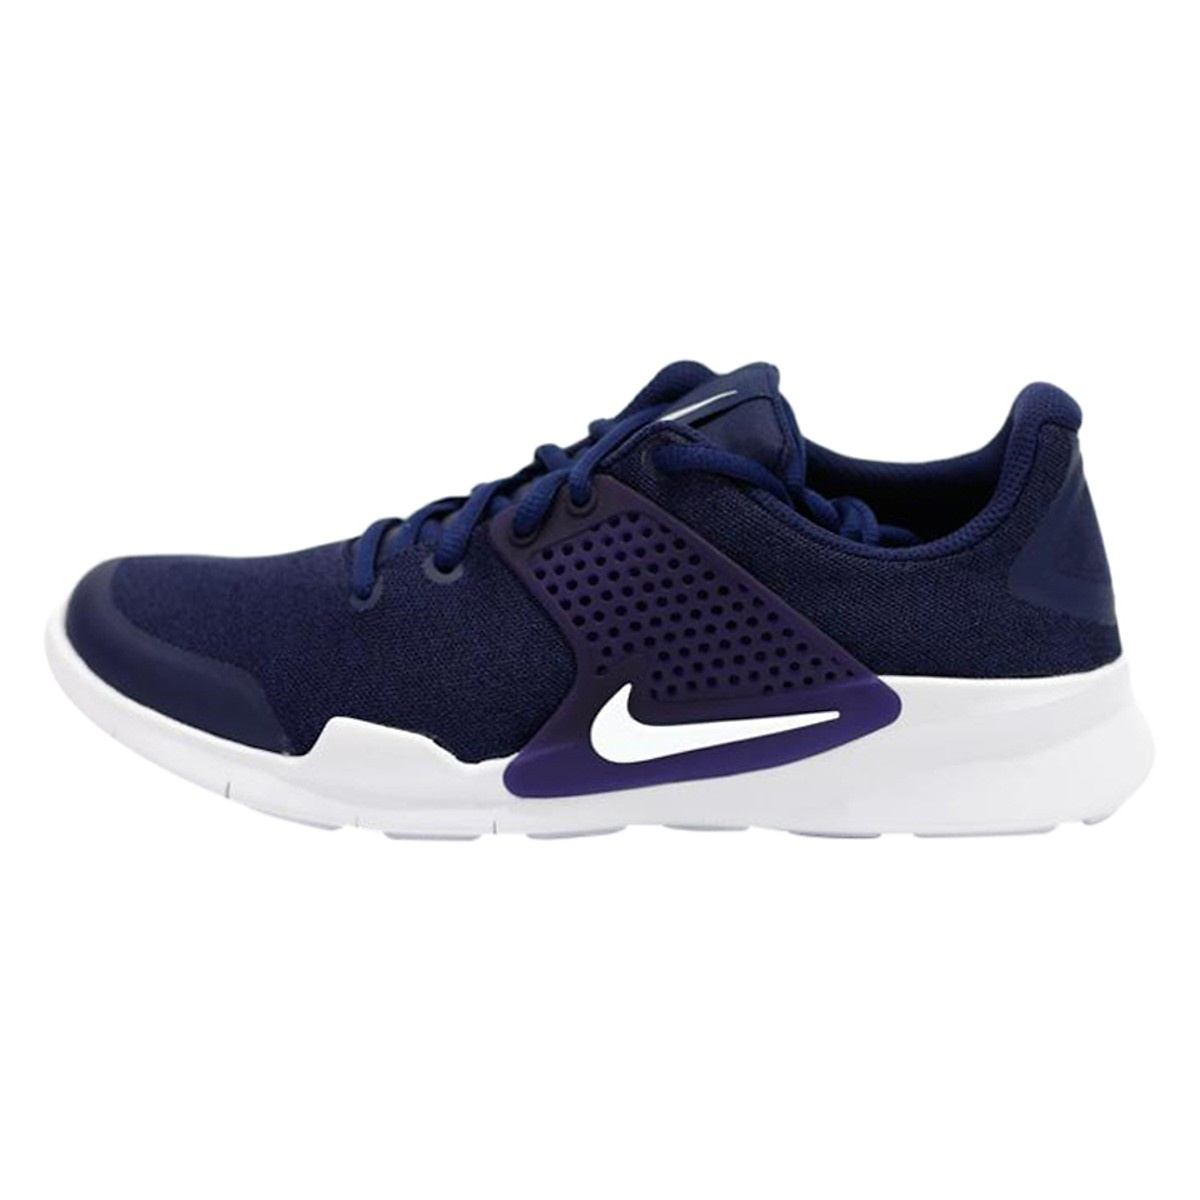Nike: (556, 641, 848, 824)
